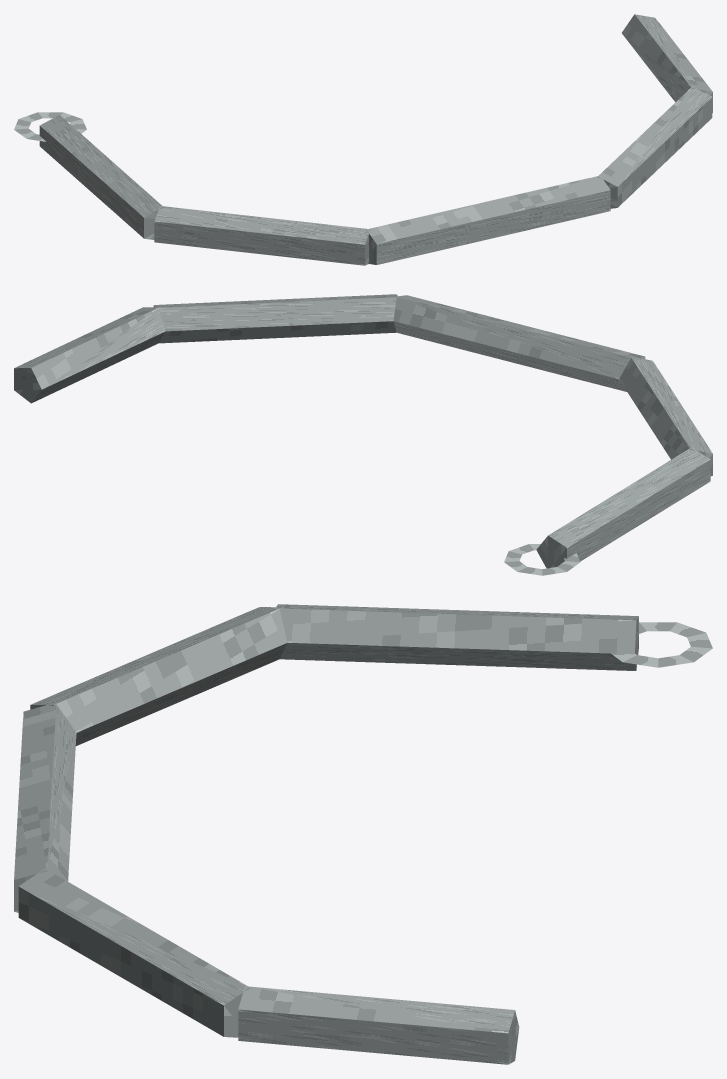
File: needle_curved.glb
3 renders of one model, top to bottom at view 1: azimuth 30°, elevation 25°; view 2: azimuth 150°, elevation 25°; view 3: azimuth 270°, elevation 25°, orthographic. The views are drawn at different scales.
Parts seen in each view (by area): view 1: block_curved needle 2, block_curved needle 1, block_curved needle 0, block_curved needle 3, block_curved needle 4; view 2: block_curved needle 2, block_curved needle 3, block_curved needle 0, block_curved needle 4, block_curved needle 1; view 3: block_curved needle 0, block_curved needle 4, block_curved needle 3, block_curved needle 1, block_curved needle 2.
Boxes of the visible parts, x1,y1,x2,y2 form: block_curved needle 2: (366, 175, 610, 264); block_curved needle 1: (154, 206, 370, 265); block_curved needle 0: (39, 115, 164, 239); block_curved needle 3: (597, 86, 712, 208); block_curved needle 4: (622, 14, 712, 112); block_curved needle 2: (393, 295, 645, 391); block_curved needle 3: (153, 294, 398, 343); block_curved needle 0: (536, 447, 710, 568); block_curved needle 4: (14, 307, 165, 403); block_curved needle 1: (619, 356, 712, 476); block_curved needle 0: (275, 604, 638, 670); block_curved needle 4: (238, 986, 519, 1064); block_curved needle 3: (18, 868, 250, 1037); block_curved needle 1: (30, 607, 287, 745); block_curved needle 2: (14, 702, 76, 912).
Bounding box in the file's own units: 0.0476 × 0.00263 × 0.0328.
1 material, 1 textured.
